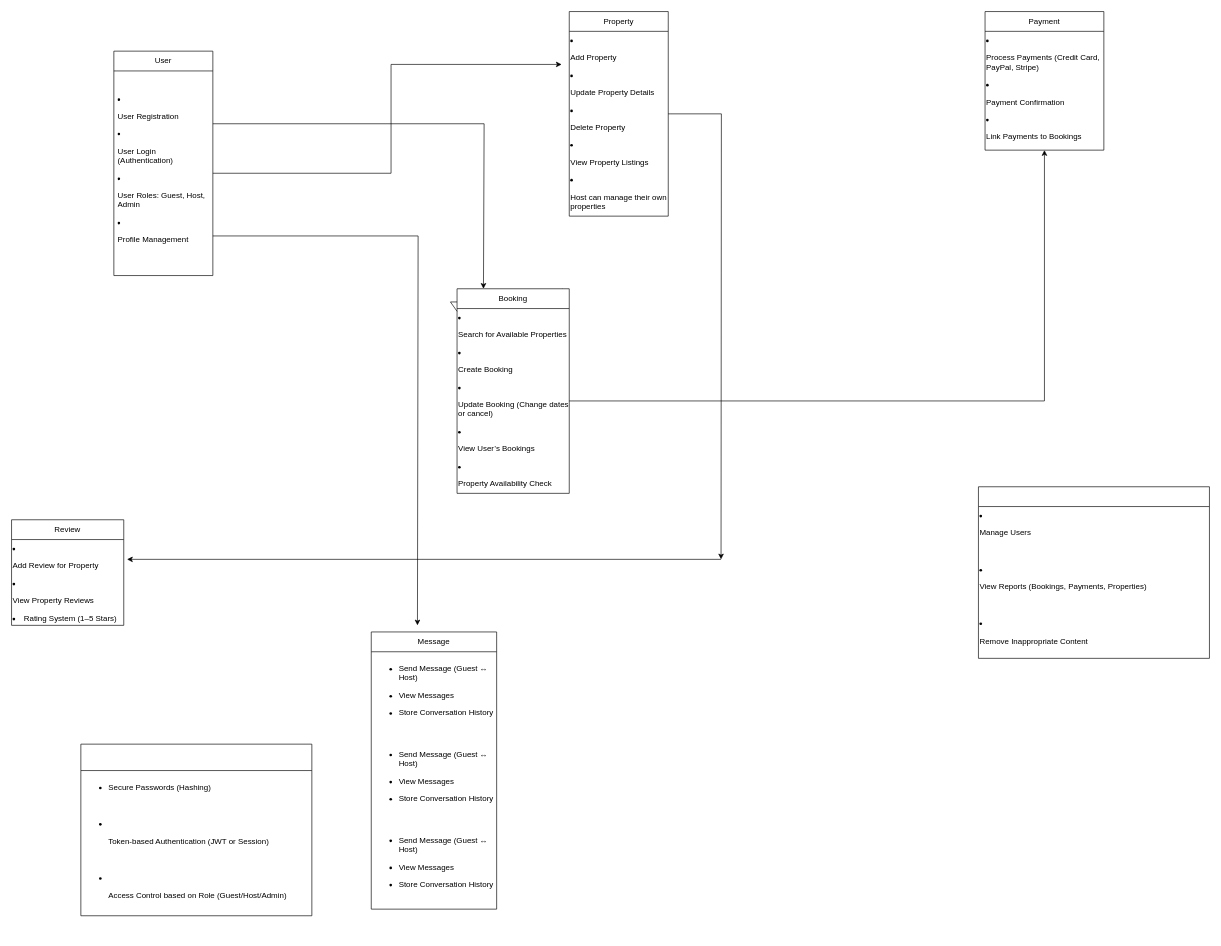
Some shapes in this 1221 by 946 pixel diagram are drawn without their labels. The shapes that lost their labels are listed below. From the top down, each one's box as (x1, y1, x2, y2) in pixels, then its label:
(978, 486, 1209, 658): Admin Features
(80, 743, 312, 916): Security.
